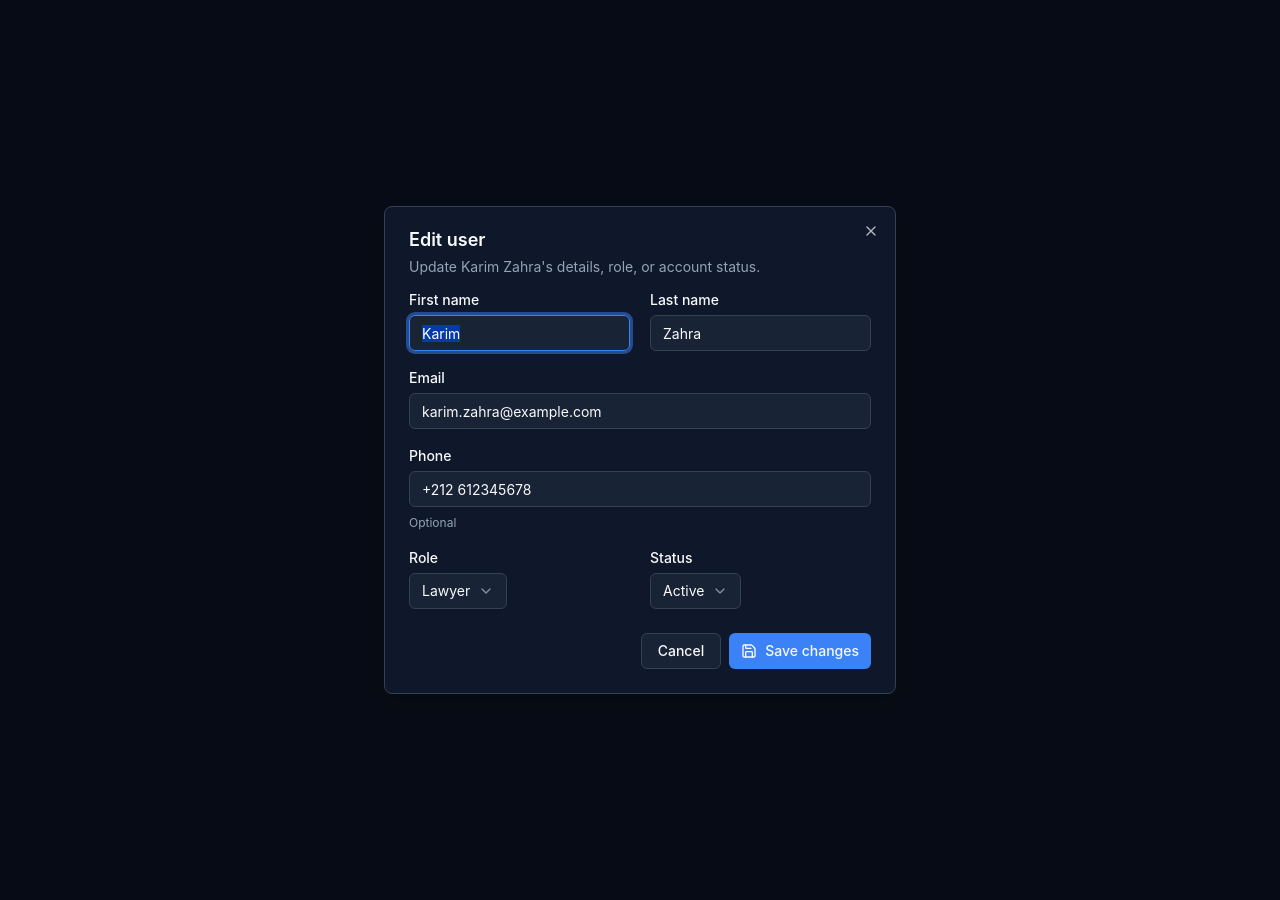
Scenario: EditUserDialog › surfaces a refused self-modification
Replace the text in the field labelled "First name" with "Yasmine" at (520, 333), box [409,315,630,351]
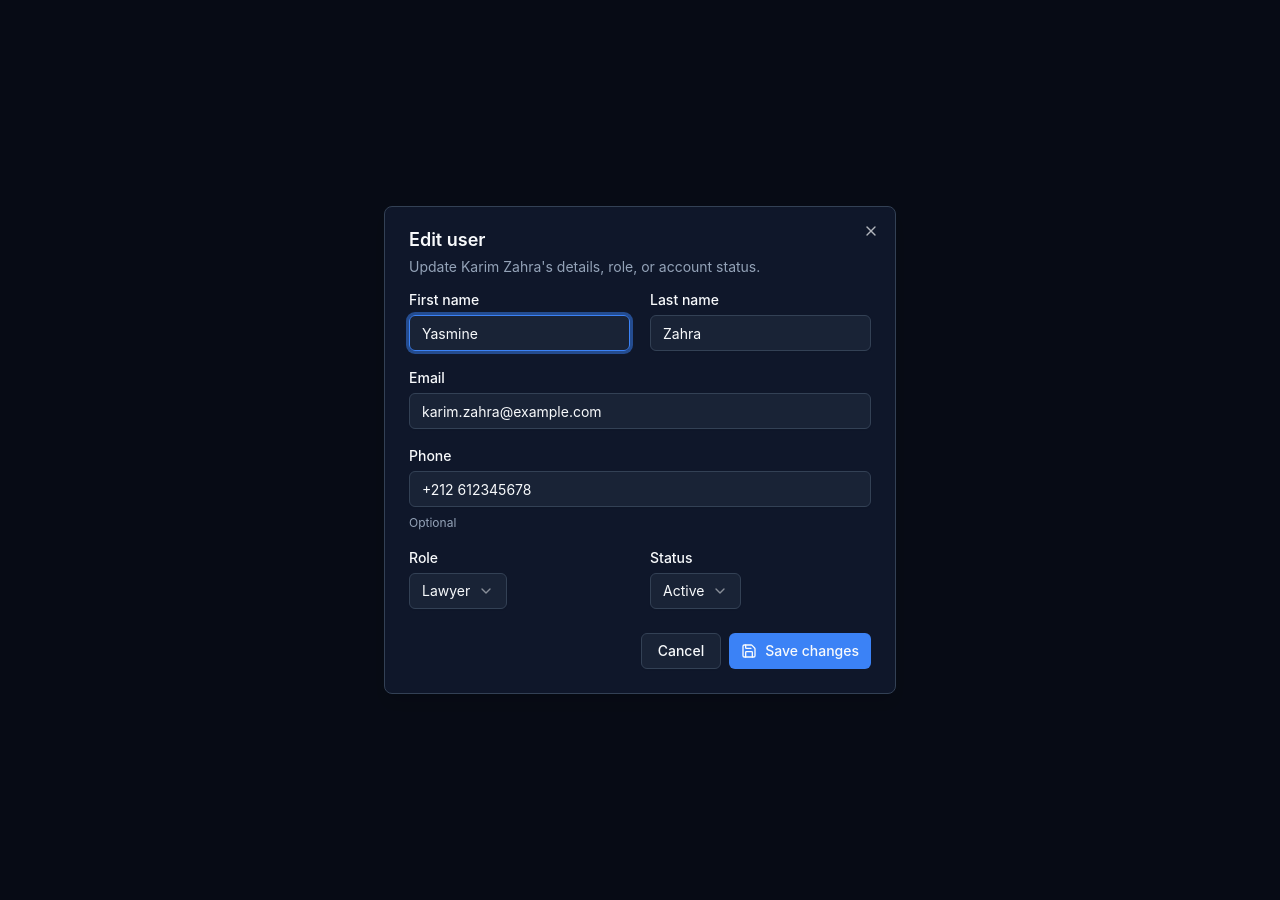
Click the button "Save changes".
click(800, 651)  # box [729,633,871,669]
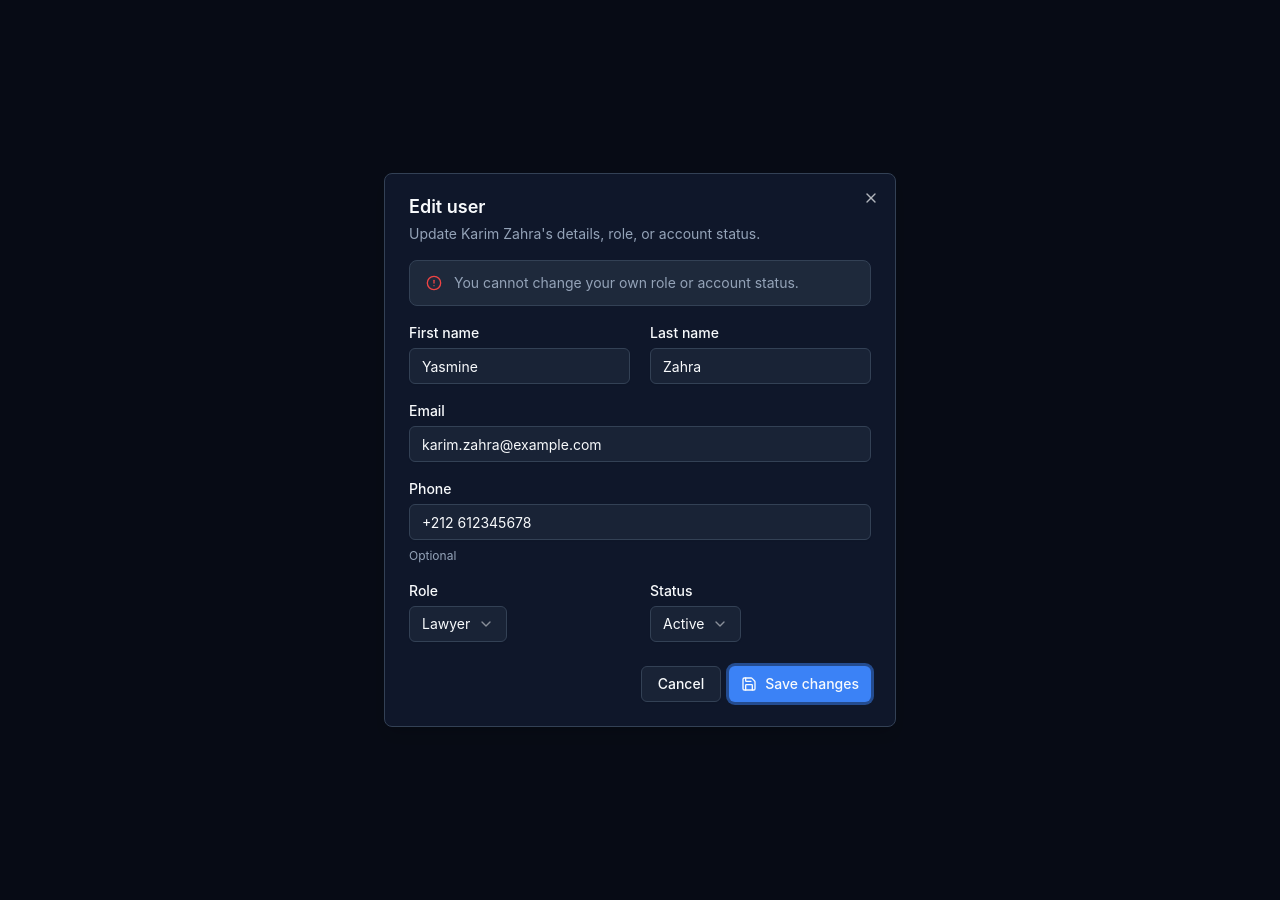
Check: the text "You cannot change your own role or account status." is shown, box [454,273,854,293]
